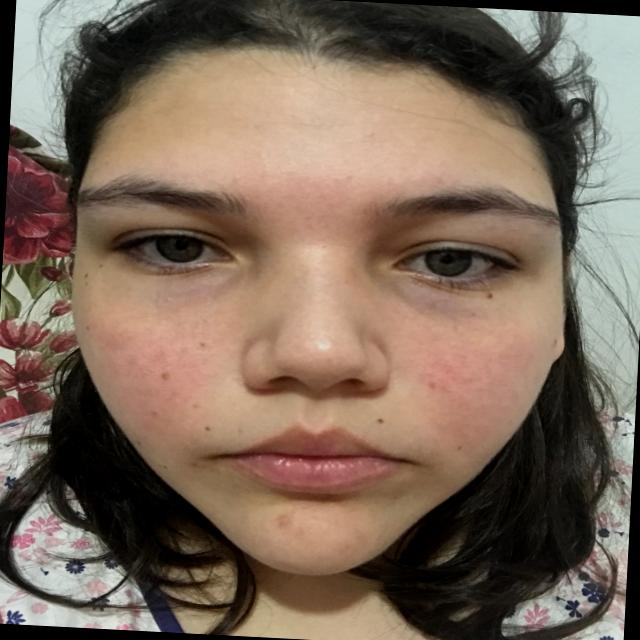eyebrow: (389, 182, 563, 226), (79, 175, 239, 218)
